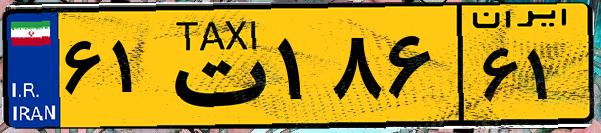1: (270, 28, 330, 110), (525, 38, 570, 115), (110, 28, 158, 98)
6: (385, 28, 445, 110), (57, 26, 110, 100), (475, 38, 525, 113)
8: (330, 28, 385, 110)
ت: (158, 12, 270, 120)
